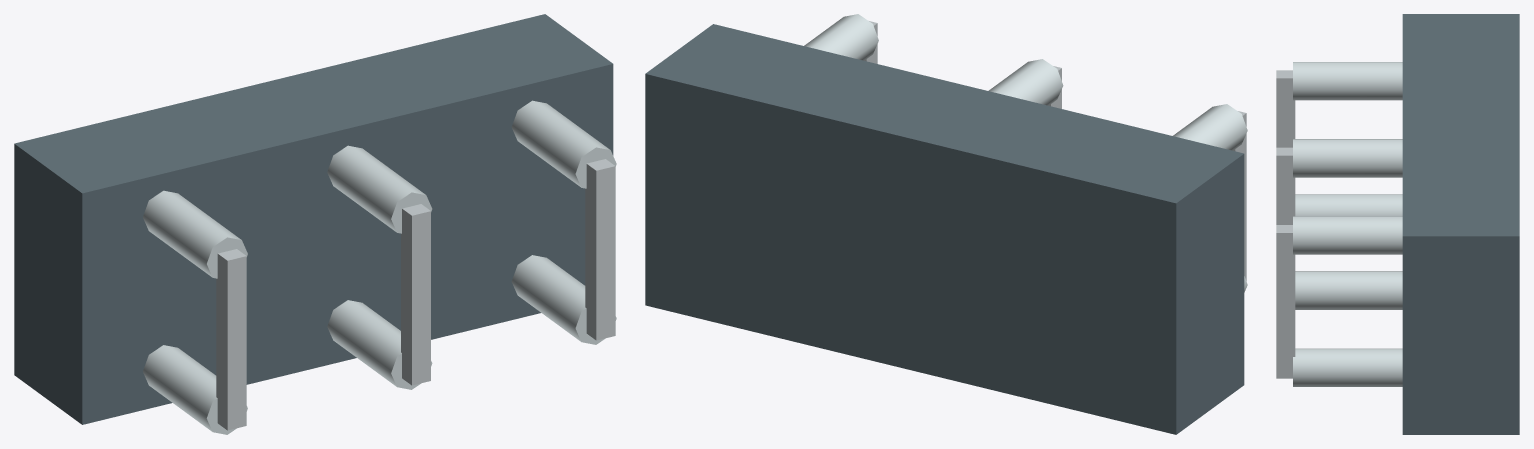
File: switch-ground-closed.glb
The picture shows the model from 3 angles, left to right: view 1: azimuth 30°, elevation 25°; view 2: azimuth 150°, elevation 25°; view 3: azimuth 270°, elevation 25°; orthographic projection. The views are drawn at different scales.
Visible parts, largest first — view 1: switch-ground-closed; view 2: switch-ground-closed; view 3: switch-ground-closed.
Part boxes in pixels (bbox=[...]): switch-ground-closed: bbox=[14, 14, 616, 434]; switch-ground-closed: bbox=[645, 14, 1247, 434]; switch-ground-closed: bbox=[1276, 14, 1519, 434].
Bounding box in the file's own units: 3.6 × 1.5 × 1.66.
